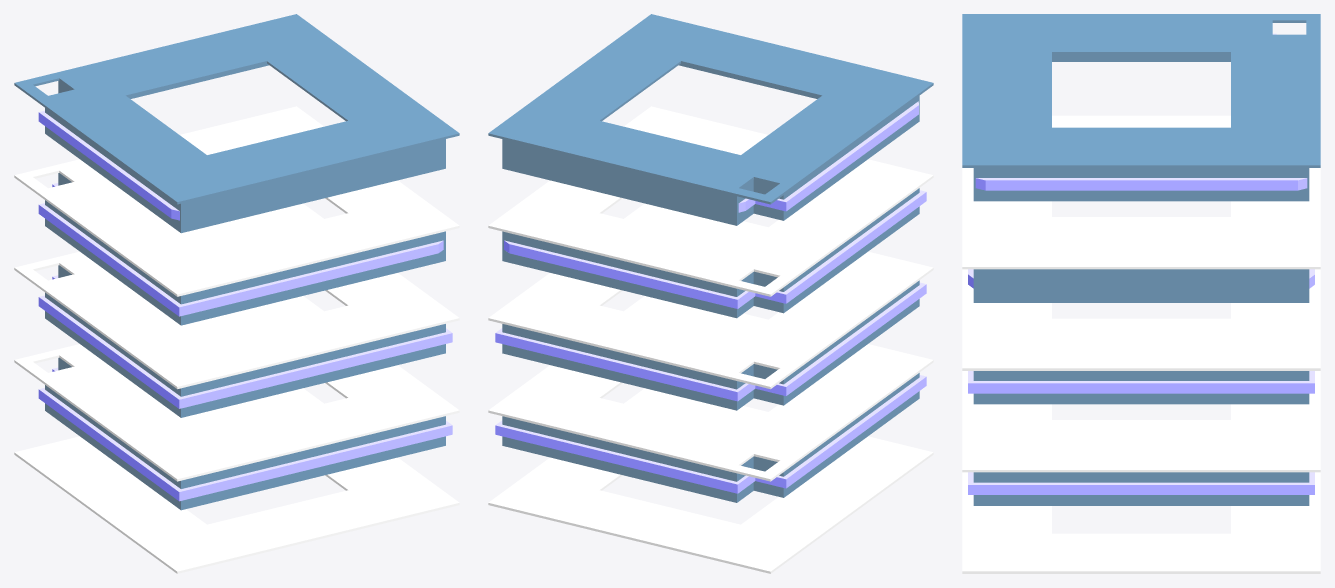
The model's file is StudzArtcadeBuilding_NeonCuts_1.gltf.
3 views of the same model, side by side, from view 1: azimuth 30°, elevation 25°; view 2: azimuth 150°, elevation 25°; view 3: azimuth 270°, elevation 25° (orthographic). The views are drawn at different scales.
Parts seen in each view (by area): view 1: Ground Floor.003; view 2: Ground Floor.003; view 3: Ground Floor.003.
Boxes of the visible parts, bbox=[...] form: Ground Floor.003: bbox=[14, 14, 459, 573]; Ground Floor.003: bbox=[488, 14, 933, 573]; Ground Floor.003: bbox=[962, 14, 1320, 573].
Size of what is drawn, in the model's own units: 32 by 40.25 by 32.
